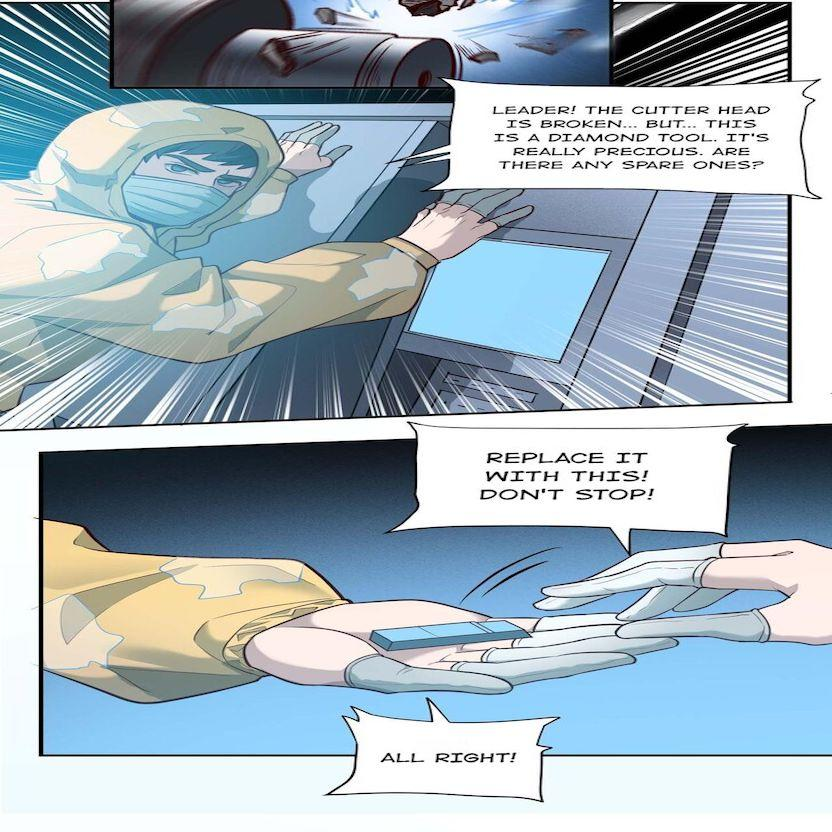Bubble: (435, 71, 824, 203), (398, 419, 740, 539), (336, 704, 564, 806)
